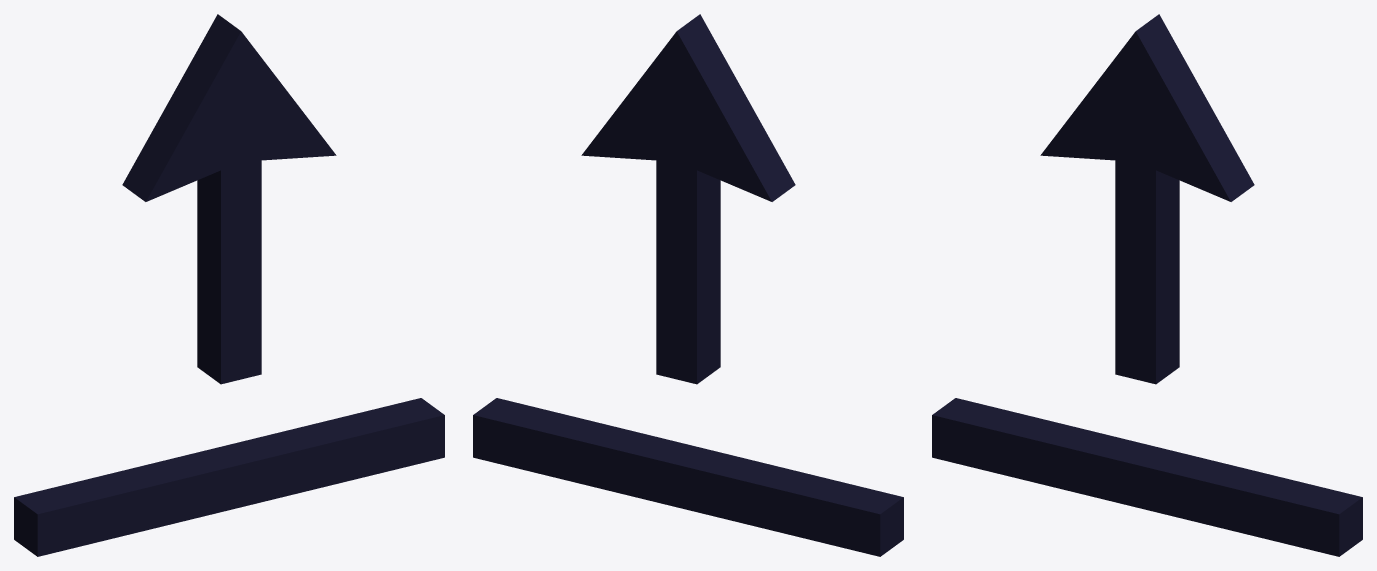
Rendered from Forward.fbx.
3 renders of one model, left to right at view 1: azimuth 30°, elevation 25°; view 2: azimuth 150°, elevation 25°; view 3: azimuth 330°, elevation 25°, orthographic.
Parts seen in each view (by area): view 1: pCube2, pCube1; view 2: pCube2, pCube1; view 3: pCube2, pCube1.
Boxes of the visible parts, bbox=[...] form: pCube2: bbox=[122, 14, 336, 384]; pCube1: bbox=[14, 398, 444, 556]; pCube2: bbox=[581, 14, 795, 384]; pCube1: bbox=[473, 398, 903, 556]; pCube2: bbox=[1040, 14, 1254, 384]; pCube1: bbox=[932, 398, 1362, 556].
Size of the model in its own units: 100 by 112 by 10.
